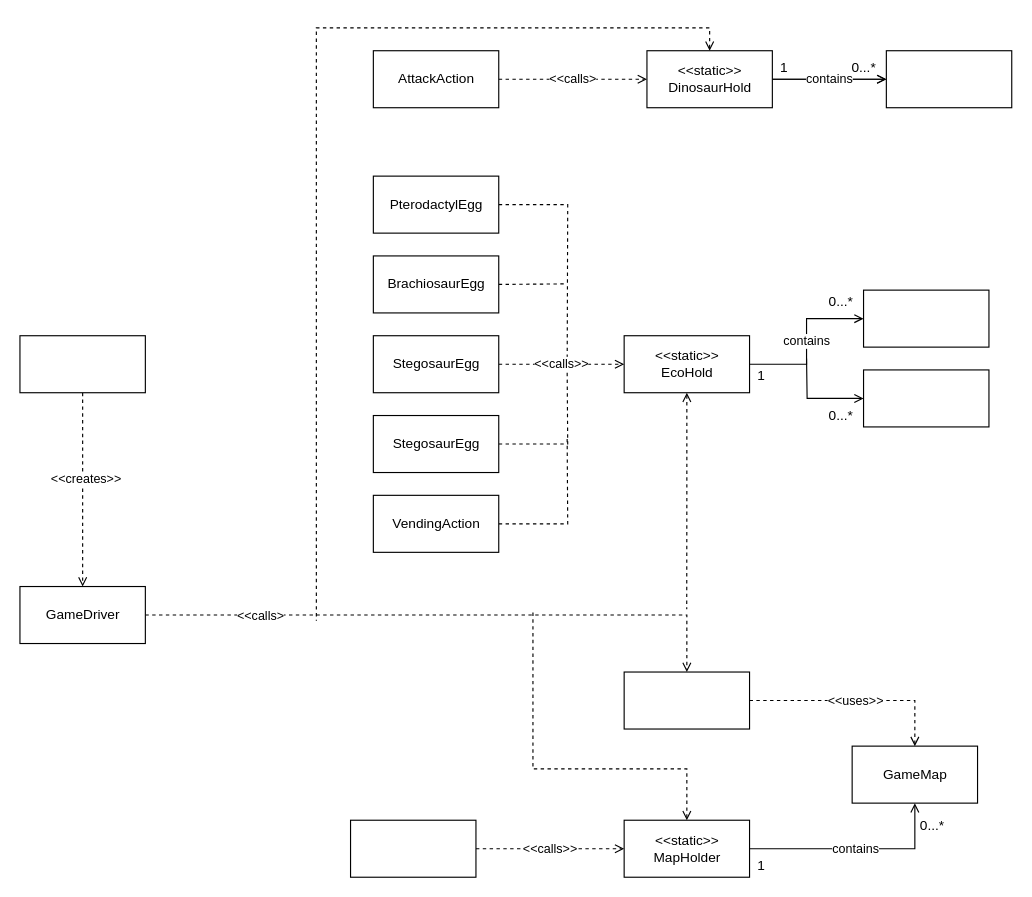
Some shapes in this 1032 by 897 pixel diagram are drawn without their labels. The centre of each missing label's shape, as x and y in pixels:
"<<static>> MapSwitch" goes at (x=686, y=700).
"Actor" goes at (x=925, y=398).
"Application" goes at (x=82, y=364).
"Dinosaur" goes at (x=948, y=79).
"Ecopoints" goes at (x=925, y=318).
"NextMapAction" goes at (x=412, y=848).
